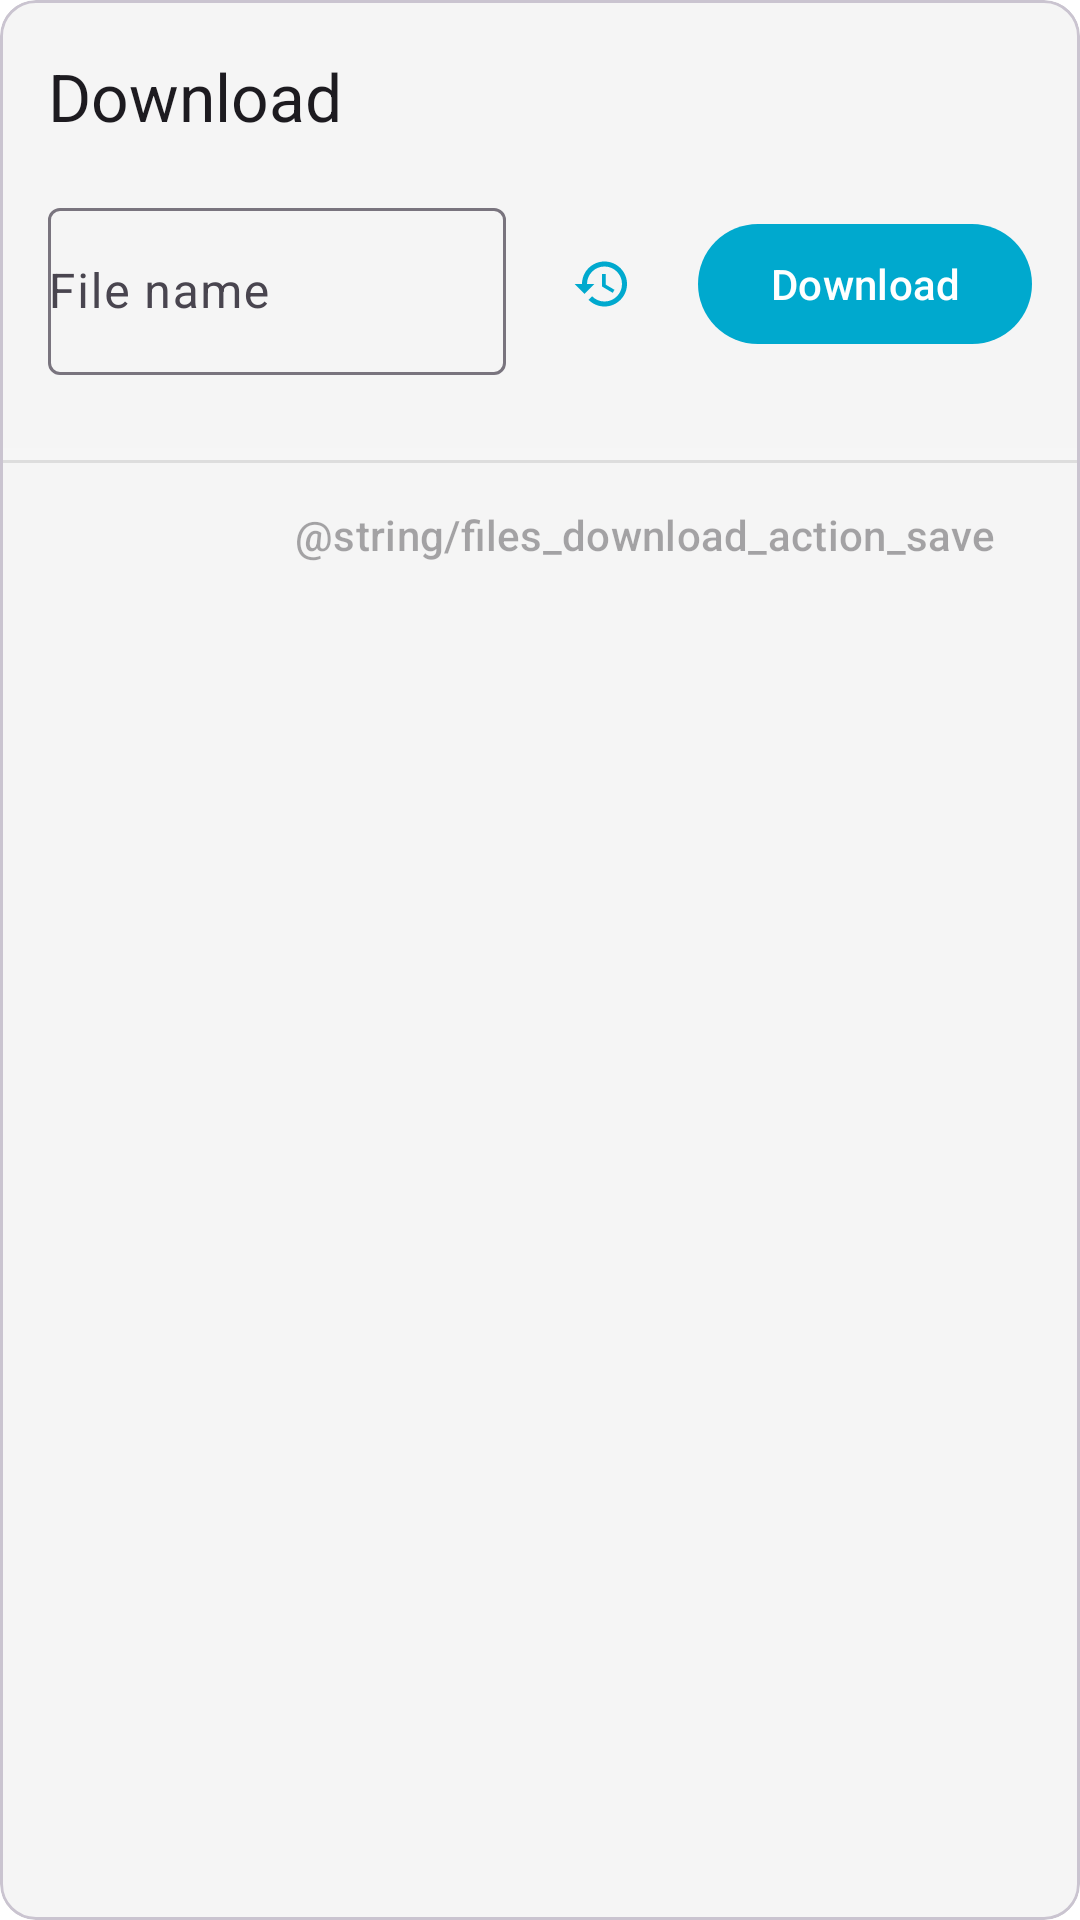

Where icons sit on this 1080w x 1920h app screen, as (x1, y1, x2, y2):
history: (575, 261, 627, 307)
